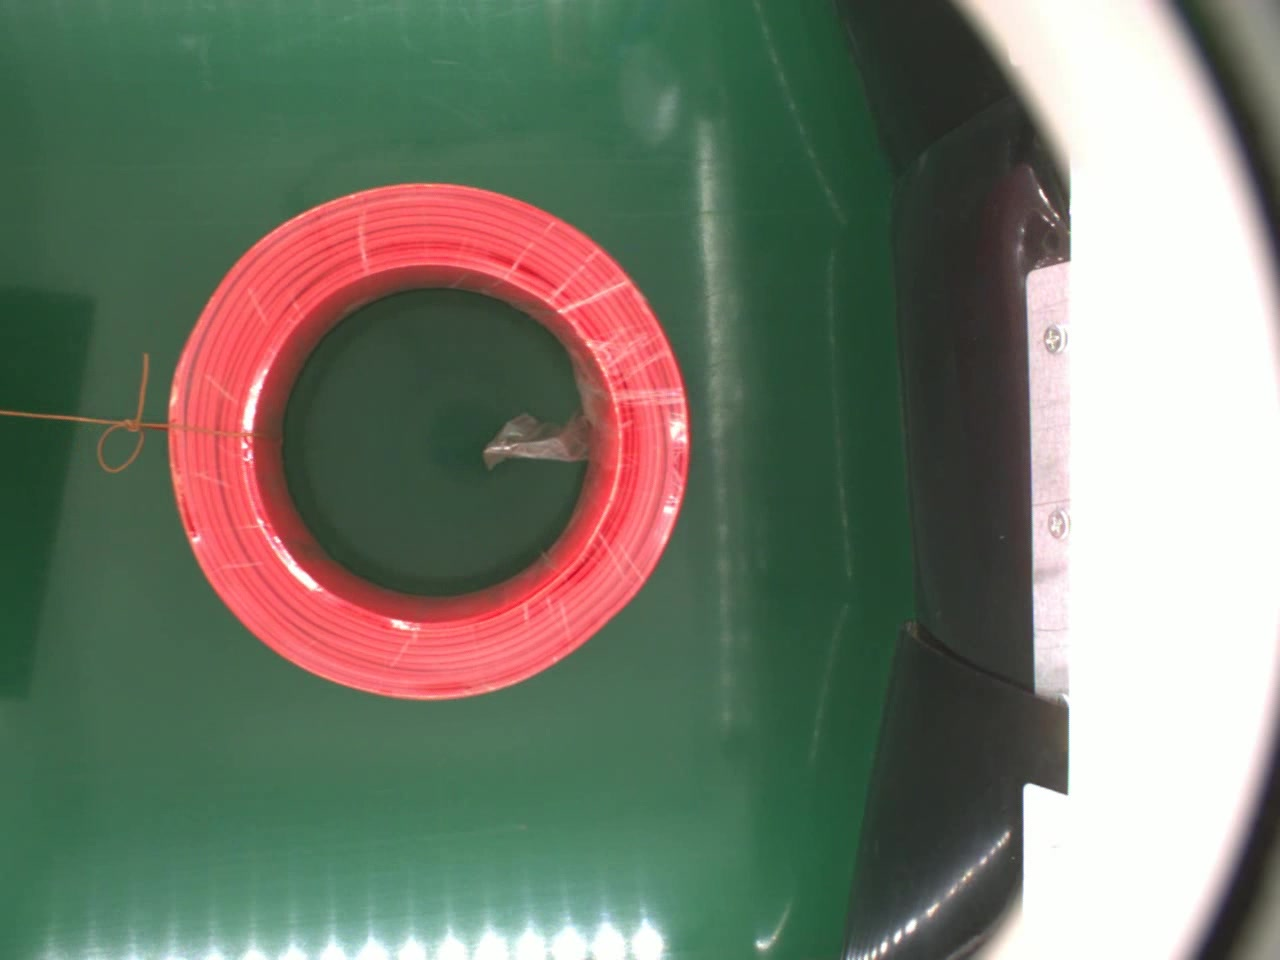red: (169, 179, 697, 704)
